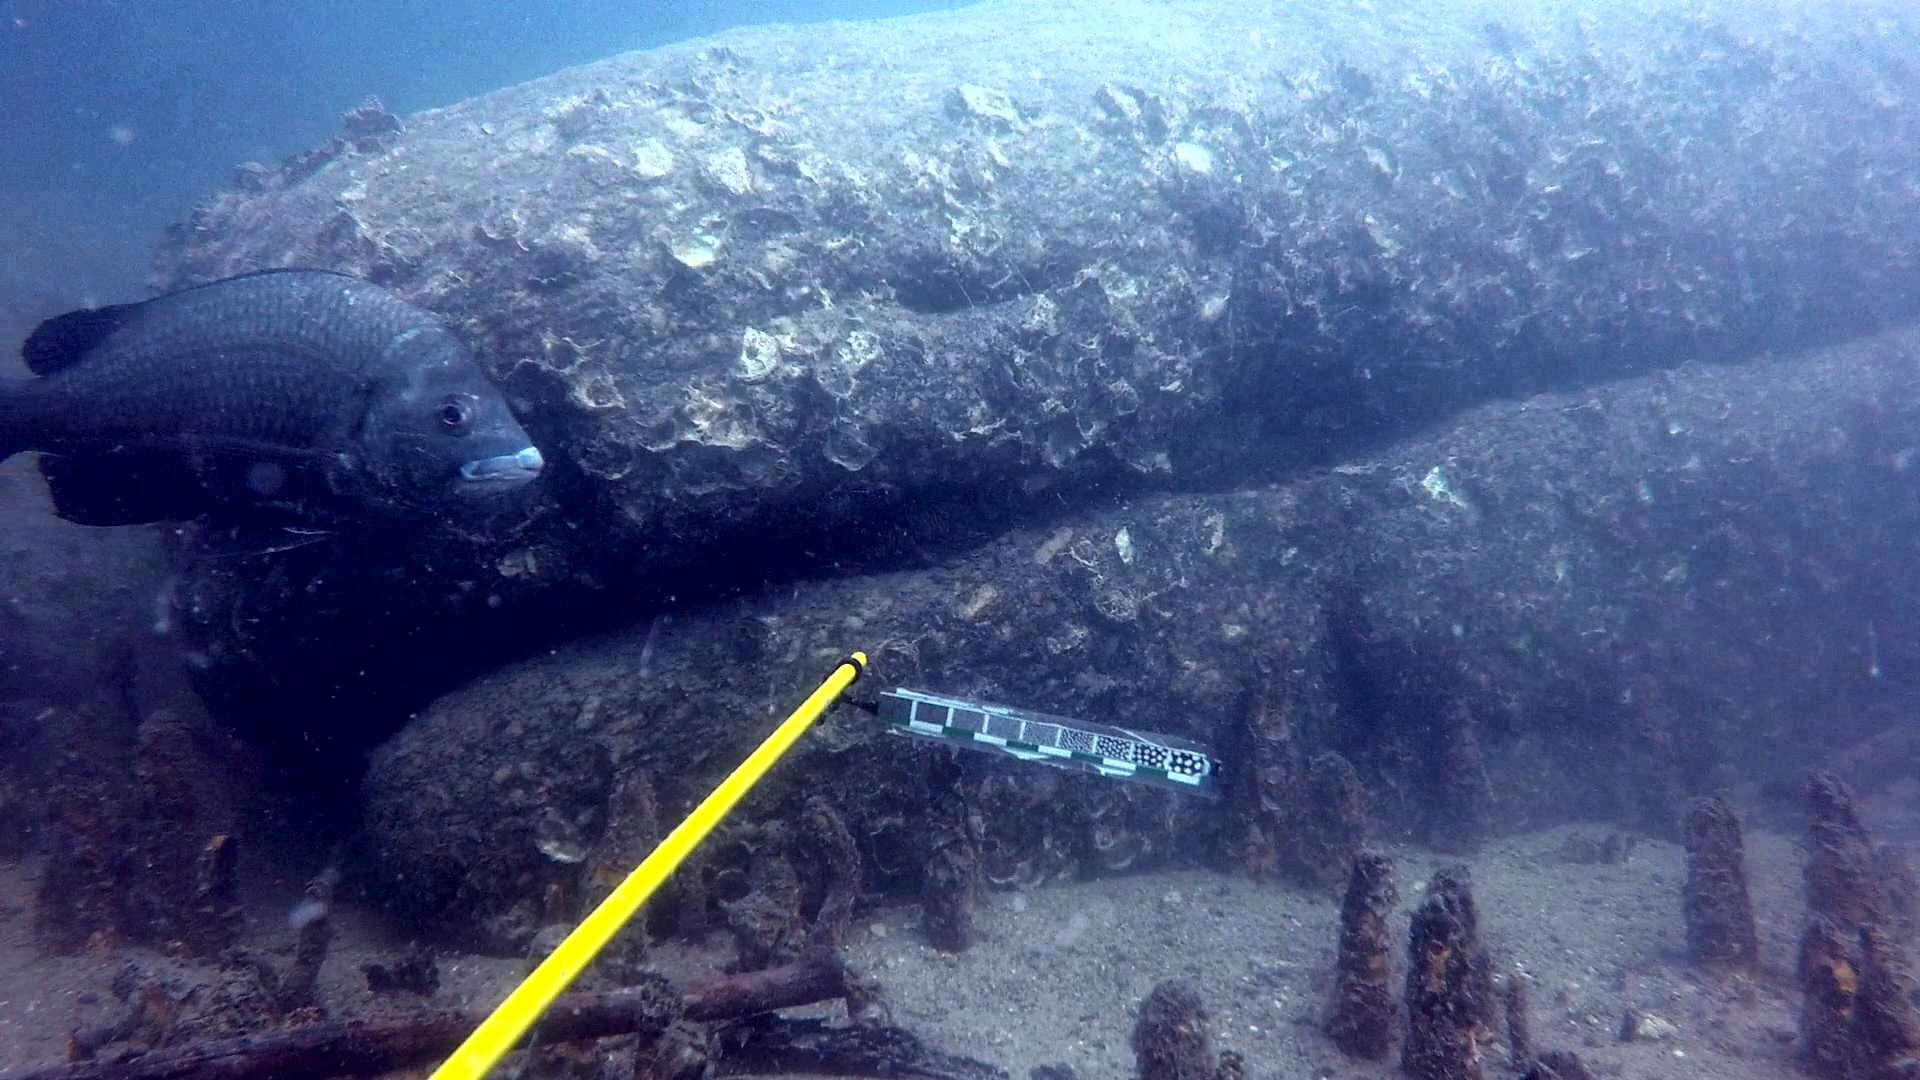acanthopagrus palmaris: (0, 262, 558, 567)
